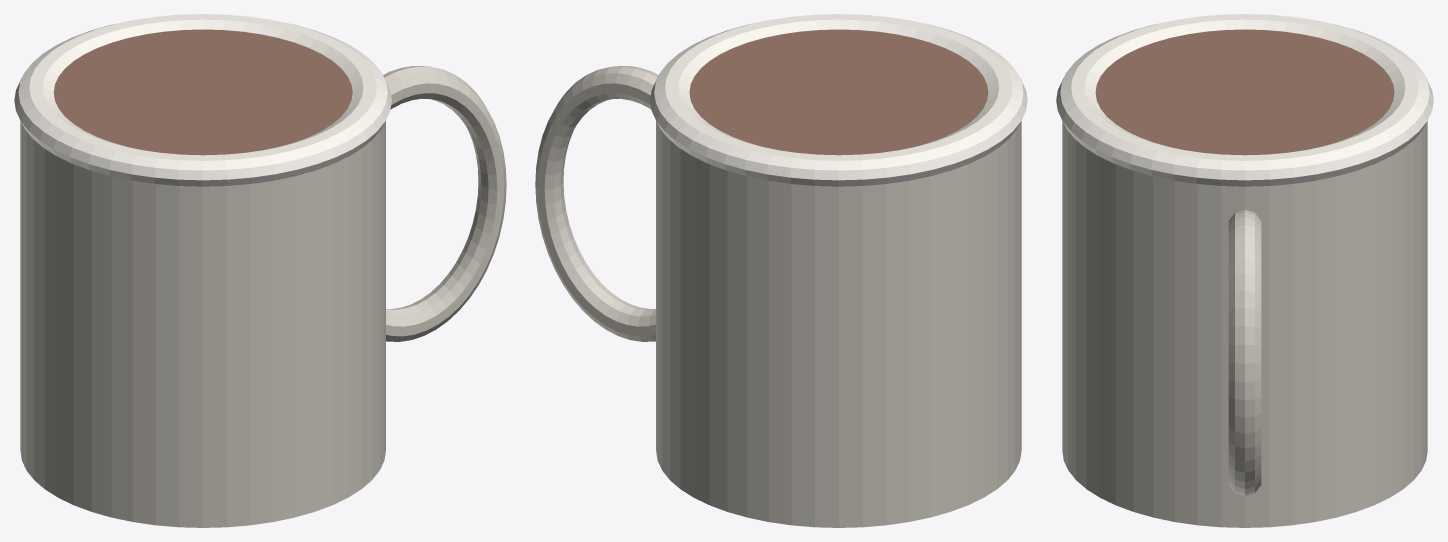
Rendered from mug.glb.
3 renders of one model, left to right at view 1: azimuth 30°, elevation 25°; view 2: azimuth 150°, elevation 25°; view 3: azimuth 270°, elevation 25°, orthographic.
Parts seen in each view (by area): view 1: cup, liquid, rim, handle; view 2: cup, liquid, rim, handle; view 3: cup, liquid, rim, handle.
Part boxes in pixels (x1,y1,x2,y2): cup: (20, 121, 385, 527); liquid: (53, 29, 352, 155); rim: (14, 14, 391, 186); handle: (383, 66, 506, 341); cup: (656, 121, 1021, 527); liquid: (689, 29, 988, 155); rim: (650, 14, 1027, 186); handle: (535, 66, 658, 341); cup: (1062, 121, 1427, 527); liquid: (1095, 29, 1394, 155); rim: (1056, 14, 1433, 186); handle: (1228, 209, 1261, 495).
Size of the model in its own units: 0.3079 by 0.2303 by 0.217.
